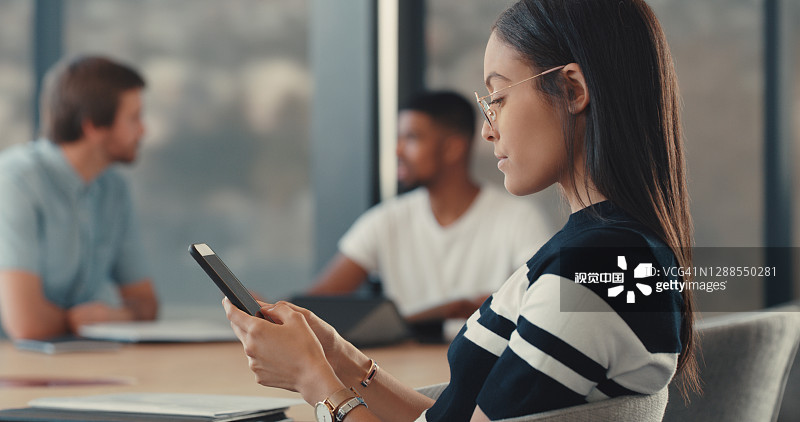reading: (171, 238, 391, 415)
